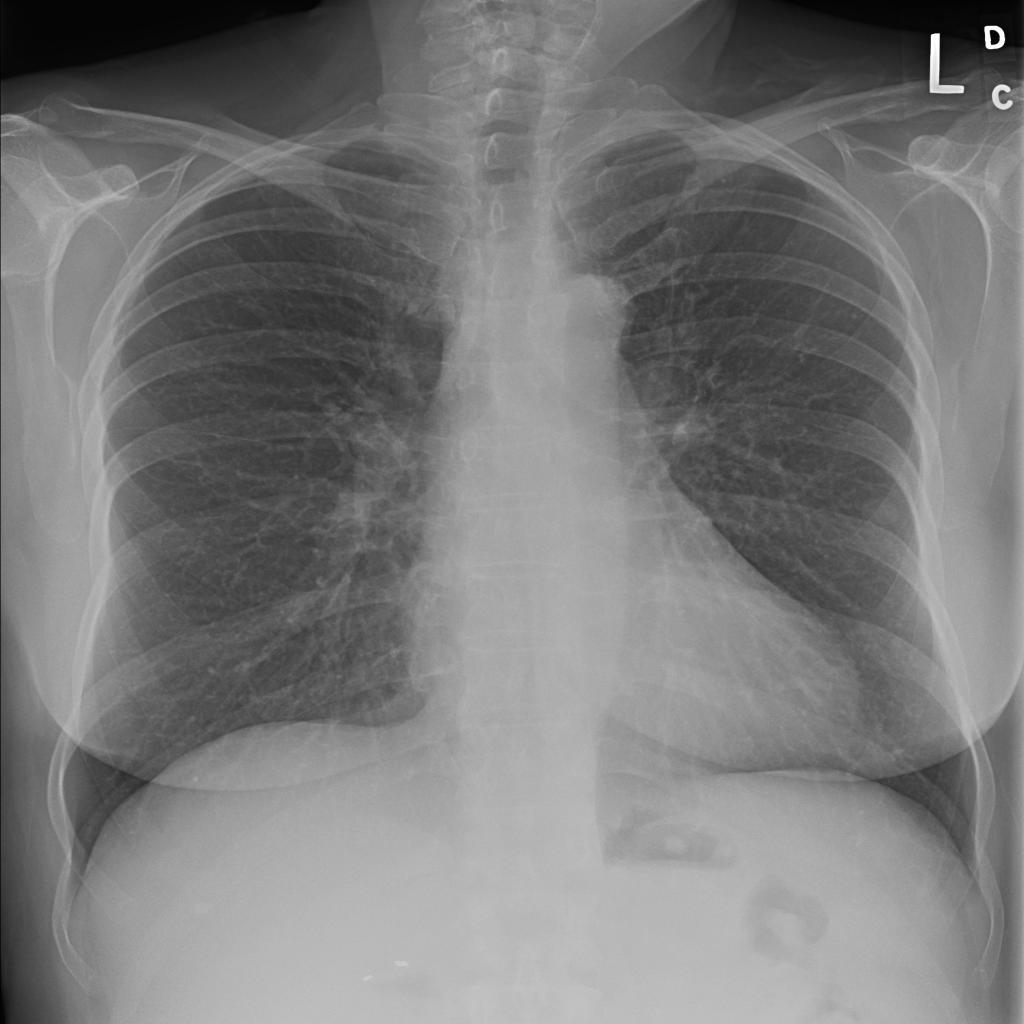Nodule: (480, 240, 538, 275)
